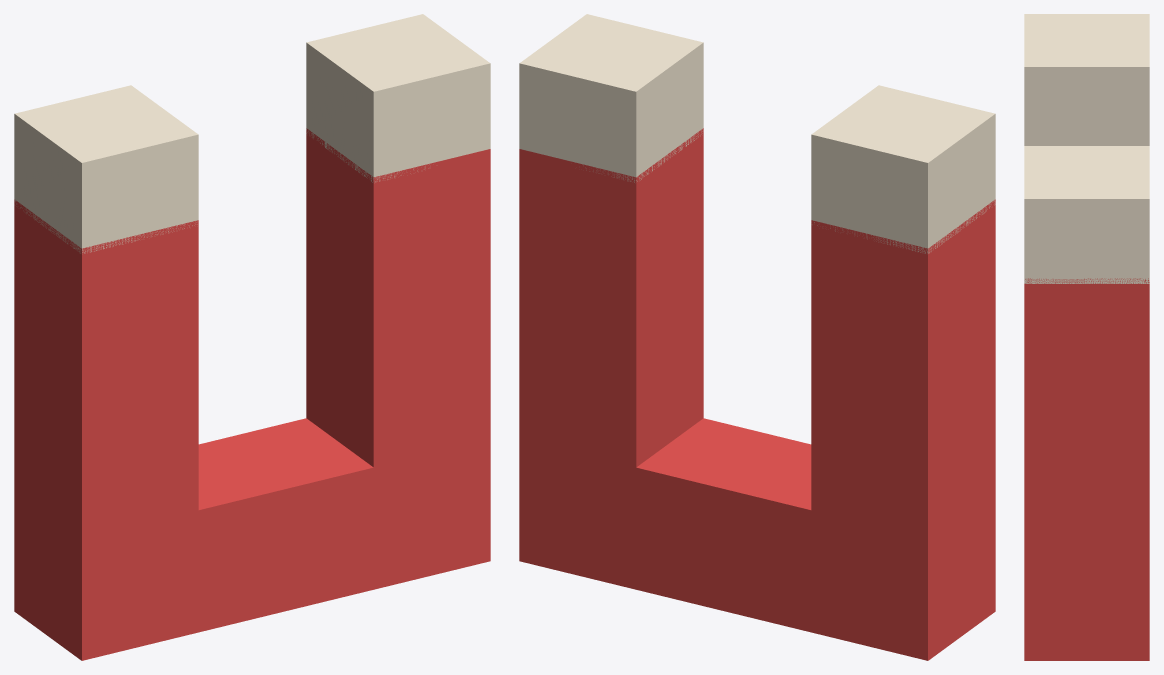
The model's file is 30_magnet.obj.
3 views of the same model, side by side, from view 1: azimuth 30°, elevation 25°; view 2: azimuth 150°, elevation 25°; view 3: azimuth 270°, elevation 25° (orthographic). The views are drawn at different scales.
Visible parts, largest first — view 1: part_0, part_4, part_2, part_1, part_3; view 2: part_0, part_4, part_2, part_1, part_3; view 3: part_2, part_3, part_1, part_4.
Boxes of the visible parts, x1,y1,x2,y2 form: part_0: [14, 199, 198, 584]; part_4: [14, 418, 490, 660]; part_2: [306, 128, 490, 508]; part_1: [14, 85, 198, 253]; part_3: [306, 14, 490, 182]; part_0: [811, 199, 995, 584]; part_4: [519, 418, 995, 660]; part_2: [519, 128, 703, 511]; part_1: [811, 85, 995, 253]; part_3: [519, 14, 703, 182]; part_2: [1024, 278, 1149, 589]; part_3: [1024, 146, 1149, 283]; part_1: [1024, 14, 1149, 145]; part_4: [1024, 547, 1149, 660].
Bounding box in the file's own units: 0.7 × 0.815 × 0.2.
